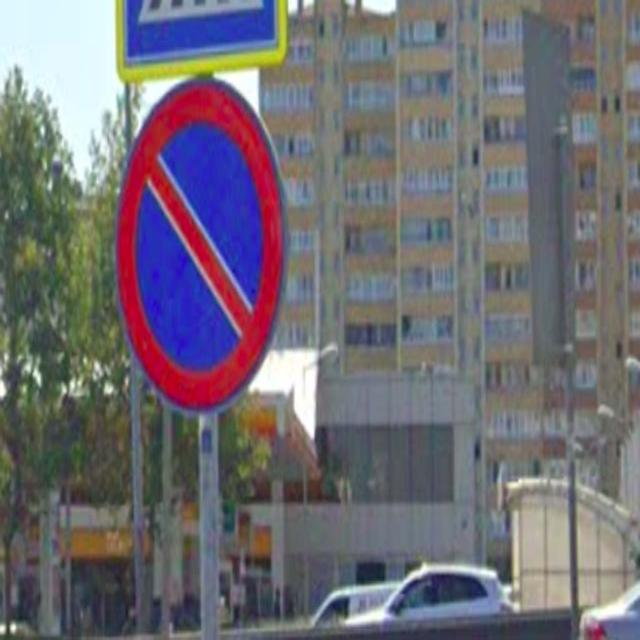parkyasak: (112, 76, 286, 412)
